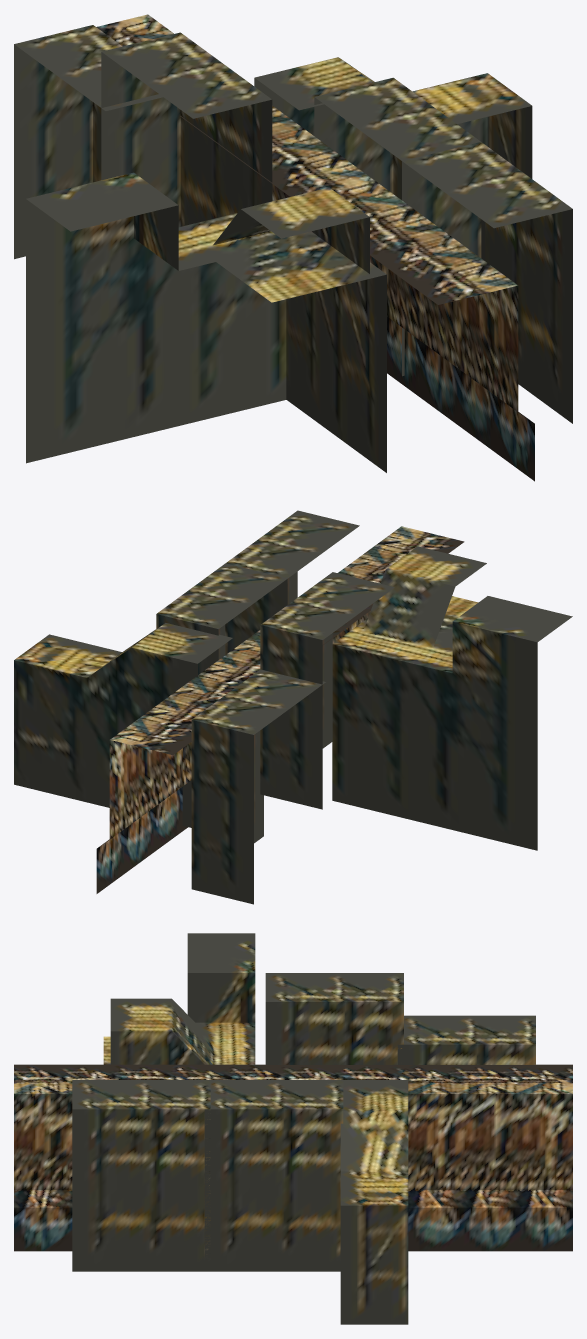
The model's file is F_GuildRampart_06.fbx.
3 views of the same model, one above another, from view 1: azimuth 30°, elevation 25°; view 2: azimuth 150°, elevation 25°; view 3: azimuth 270°, elevation 25° (orthographic). The views are drawn at different scales.
Visible parts, largest first — view 1: T_BuildForm_01 (1), T_BuildForm_02 (×2), F_GuildRampart_06, T_BuildForm_02 (1), T_BuildForm_02 (2), T_BuildForm_03; view 2: T_BuildForm_01 (1), T_BuildForm_03, T_BuildForm_02 (×2), F_GuildRampart_06, T_BuildForm_02 (2), T_BuildForm_02 (1); view 3: F_GuildRampart_06, T_BuildForm_02 (×2), T_BuildForm_02 (1), T_BuildForm_03, T_BuildForm_01 (1), T_BuildForm_02 (2).
Part boxes in pixels (bbox=[...]): T_BuildForm_01 (1): bbox=[26, 172, 386, 472]; T_BuildForm_02 (×2): bbox=[101, 32, 485, 260]; F_GuildRampart_06: bbox=[96, 14, 534, 481]; T_BuildForm_02 (1): bbox=[402, 142, 572, 423]; T_BuildForm_02 (2): bbox=[14, 25, 162, 259]; T_BuildForm_03: bbox=[254, 57, 532, 178]; T_BuildForm_01 (1): bbox=[332, 546, 572, 850]; T_BuildForm_03: bbox=[14, 623, 232, 827]; T_BuildForm_02 (×2): bbox=[156, 563, 394, 809]; F_GuildRampart_06: bbox=[96, 526, 464, 893]; T_BuildForm_02 (2): bbox=[191, 669, 325, 904]; T_BuildForm_02 (1): bbox=[225, 510, 359, 654]; F_GuildRampart_06: bbox=[14, 1064, 572, 1251]; T_BuildForm_02 (×2): bbox=[204, 973, 403, 1271]; T_BuildForm_02 (1): bbox=[72, 1080, 210, 1271]; T_BuildForm_03: bbox=[340, 1080, 408, 1324]; T_BuildForm_01 (1): bbox=[103, 933, 255, 1064]; T_BuildForm_02 (2): bbox=[397, 1015, 535, 1064].
Size of the model in its own units: 0.878 by 0.4424 by 1.
